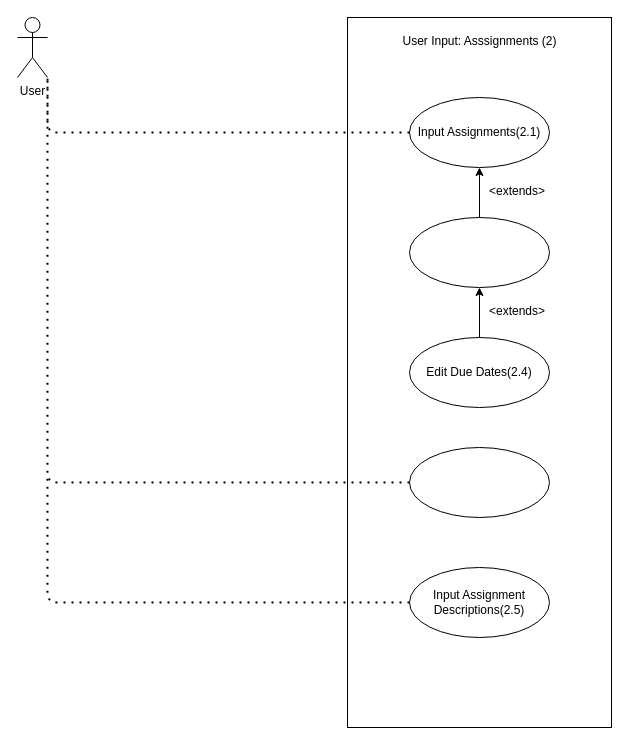
Some shapes in this 629 by 745 pixel diagram are drawn without their labels. The centre of each missing label's shape, as x and y in pixels:
Input Estimated Number of hours to complete(2.3): (x=479, y=482)
Modify or Delete Assignments(2.2): (x=479, y=252)
